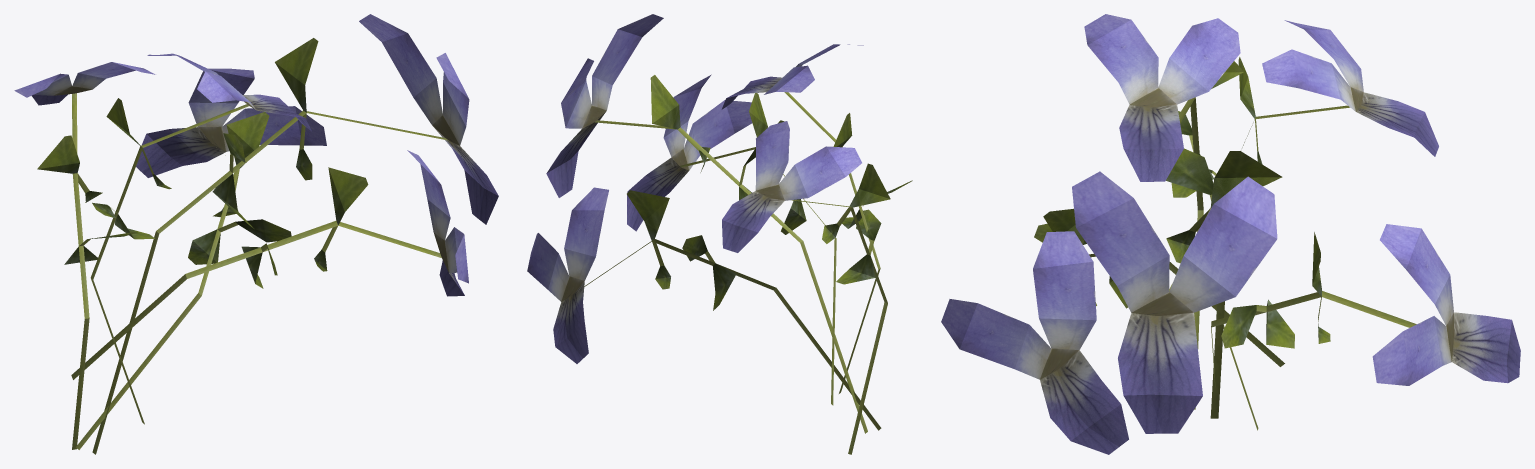
Rendered from flower-2.fbx.
3 renders of one model, left to right at view 1: azimuth 30°, elevation 25°; view 2: azimuth 150°, elevation 25°; view 3: azimuth 270°, elevation 25°, orthographic. The views are drawn at different scales.
Visible parts, largest first — view 1: Plane.001; view 2: Plane.001; view 3: Plane.001.
Boxes of the visible parts, <box> form: Plane.001: <box>14,14,498,454</box>; Plane.001: <box>527,14,912,454</box>; Plane.001: <box>941,14,1520,454</box>.
Size of the model in its own units: 3.73 by 3.51 by 4.09.
Materials: 1 (1 with a texture image).
